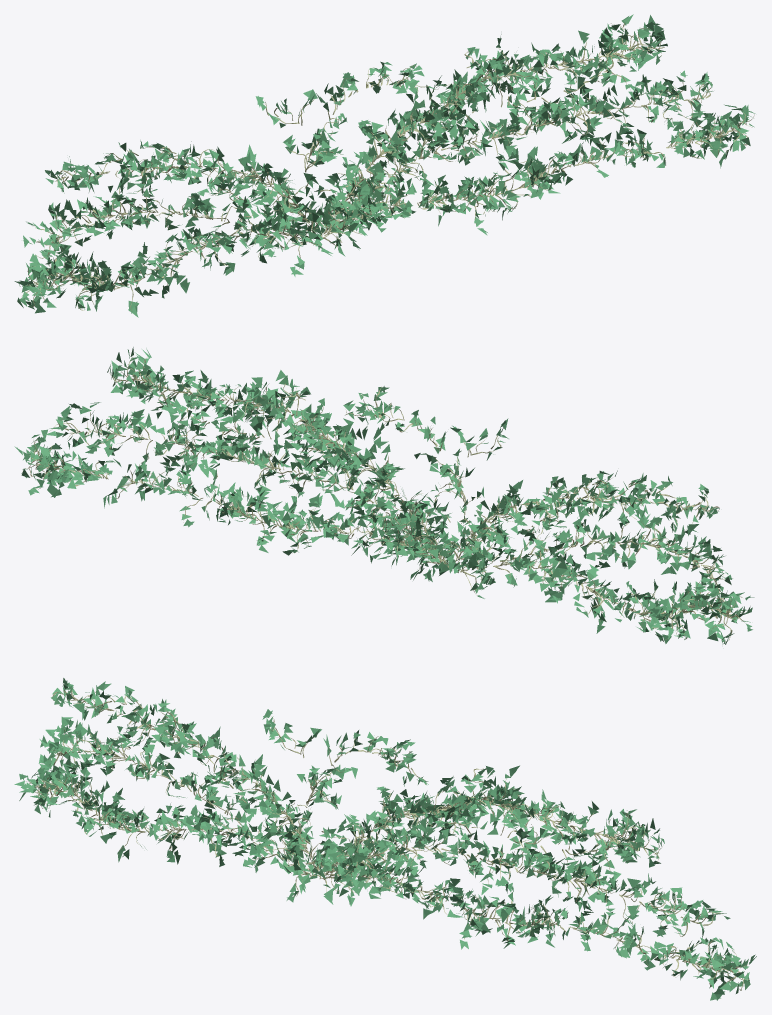
The model's file is IvySecond.fbx.
The picture shows the model from 3 angles, top to bottom: view 1: azimuth 30°, elevation 25°; view 2: azimuth 150°, elevation 25°; view 3: azimuth 330°, elevation 25°; orthographic projection.
Parts seen in each view (by area): view 1: ivy2Leaf, ivy2Main; view 2: ivy2Leaf, ivy2Main; view 3: ivy2Leaf, ivy2Main.
Boxes of the visible parts, bbox=[...] form: ivy2Leaf: bbox=[14, 14, 755, 317]; ivy2Main: bbox=[20, 23, 754, 310]; ivy2Leaf: bbox=[14, 347, 754, 644]; ivy2Main: bbox=[22, 354, 746, 641]; ivy2Leaf: bbox=[14, 678, 756, 1000]; ivy2Main: bbox=[26, 685, 749, 990].
Bounding box in the file's own units: 28.67 × 6.94 × 2.71.
